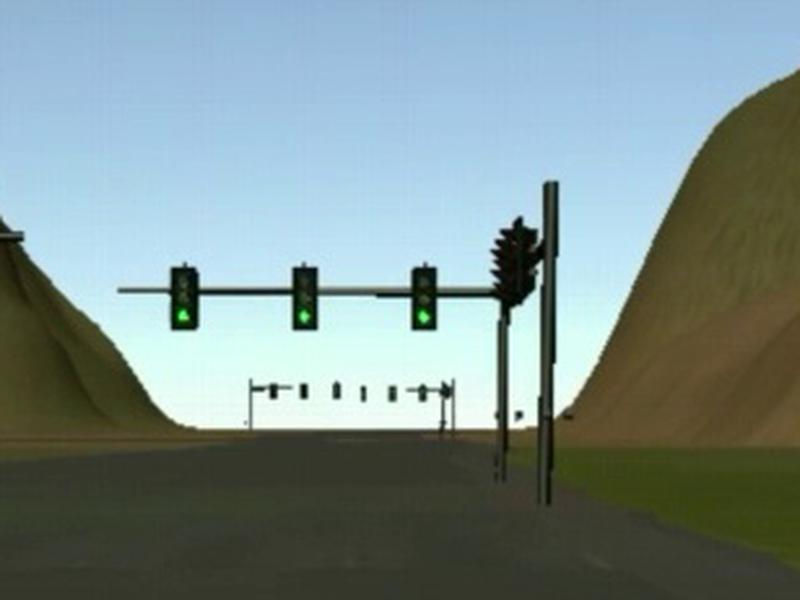Green: (168, 266, 199, 330), (290, 265, 319, 331), (411, 266, 437, 330)
